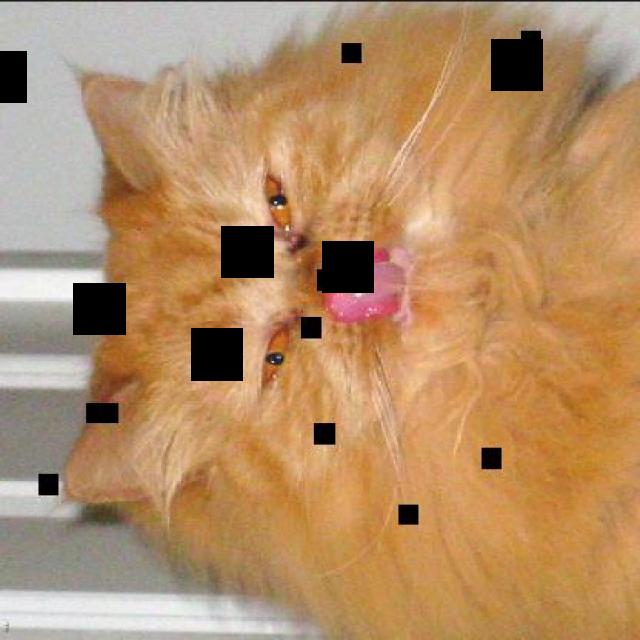unauthorized: (59, 0, 638, 638)
